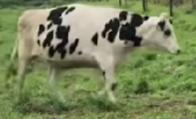cow: (10, 4, 181, 106)
